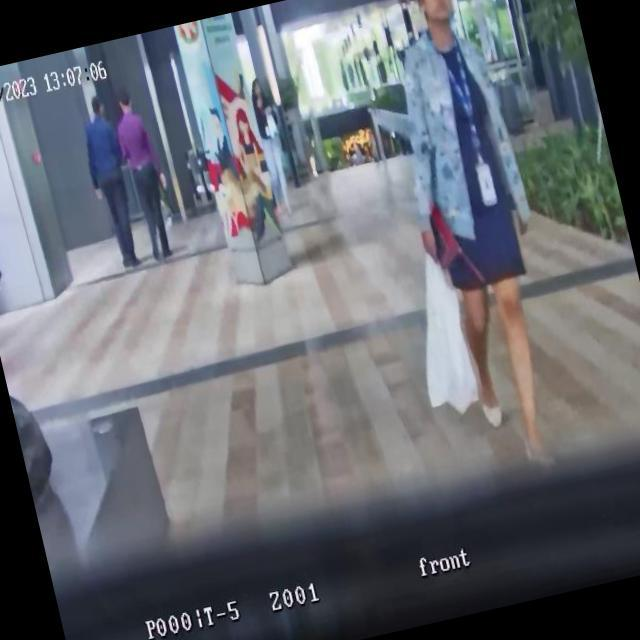person: (362, 0, 587, 480), (106, 80, 182, 266), (72, 92, 147, 274), (245, 75, 300, 220)
